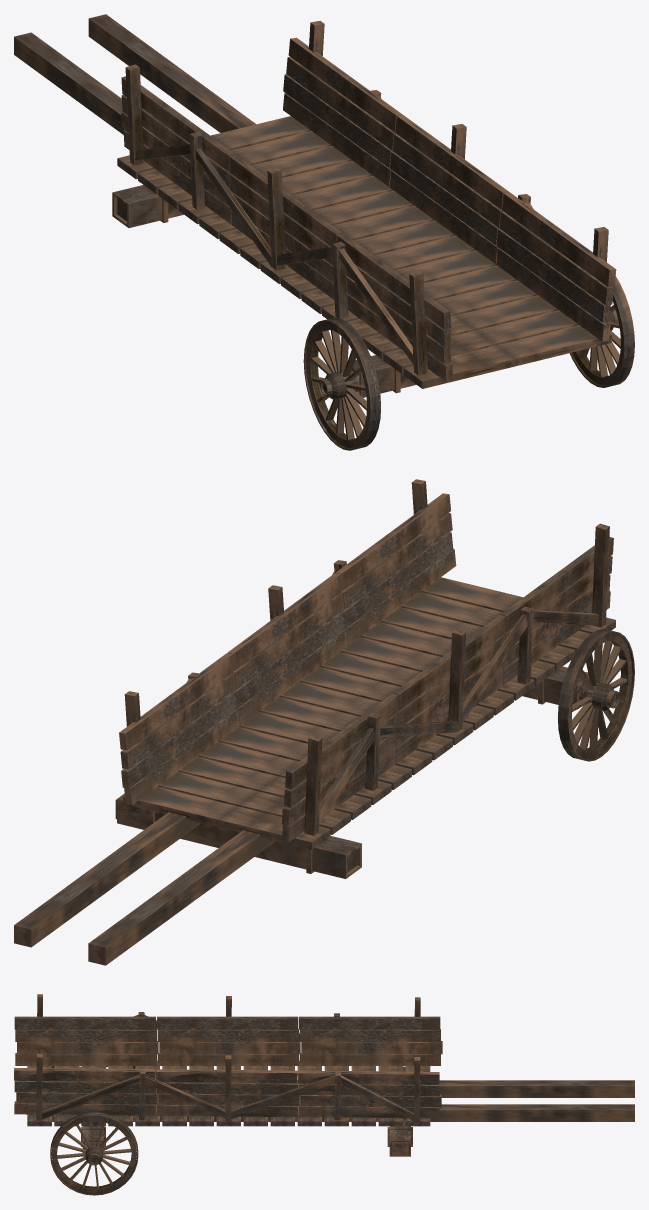
File: B.Wagon.fbx
3 renders of one model, top to bottom at view 1: azimuth 30°, elevation 25°; view 2: azimuth 150°, elevation 25°; view 3: azimuth 270°, elevation 25°, orthographic. The views are drawn at different scales.
Visible parts, largest first — view 1: Cube.031; view 2: Cube.031; view 3: Cube.031.
Boxes of the visible parts, x1,y1,x2,y2 form: Cube.031: (14,14,634,450); Cube.031: (14,479,634,965); Cube.031: (14,994,634,1195).
Bounding box in the file's own units: 706 × 443 × 1964.
1 material, 1 textured.
